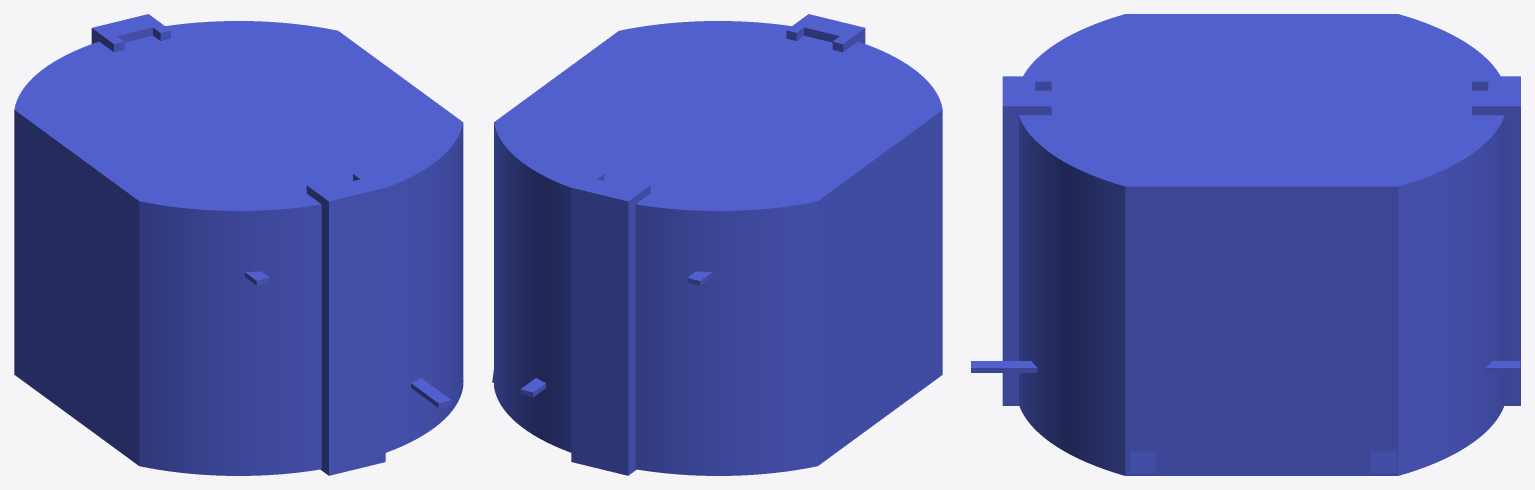
Rendered from BunkerFloor4.fbx.
3 views of the same model, side by side, from view 1: azimuth 30°, elevation 25°; view 2: azimuth 150°, elevation 25°; view 3: azimuth 270°, elevation 25° (orthographic). The views are drawn at different scales.
Visible parts, largest first — view 1: Bunker.001, Cube, Cube.002; view 2: Bunker.001, Cube, Cube.002; view 3: Bunker.001, Cube, Cube.001, Cube.002.
Boxes of the visible parts, bbox=[...] form: Bunker.001: bbox=[14, 21, 463, 475]; Cube: bbox=[91, 14, 385, 475]; Cube.002: bbox=[244, 271, 451, 407]; Bunker.001: bbox=[494, 21, 942, 475]; Cube: bbox=[571, 14, 865, 475]; Cube.002: bbox=[520, 271, 712, 397]; Bunker.001: bbox=[1019, 14, 1504, 475]; Cube: bbox=[1002, 76, 1520, 405]; Cube.001: bbox=[1129, 451, 1396, 473]; Cube.002: bbox=[971, 361, 1520, 372].
Size of the model in its own units: 31.79 by 25.55 by 42.48.
